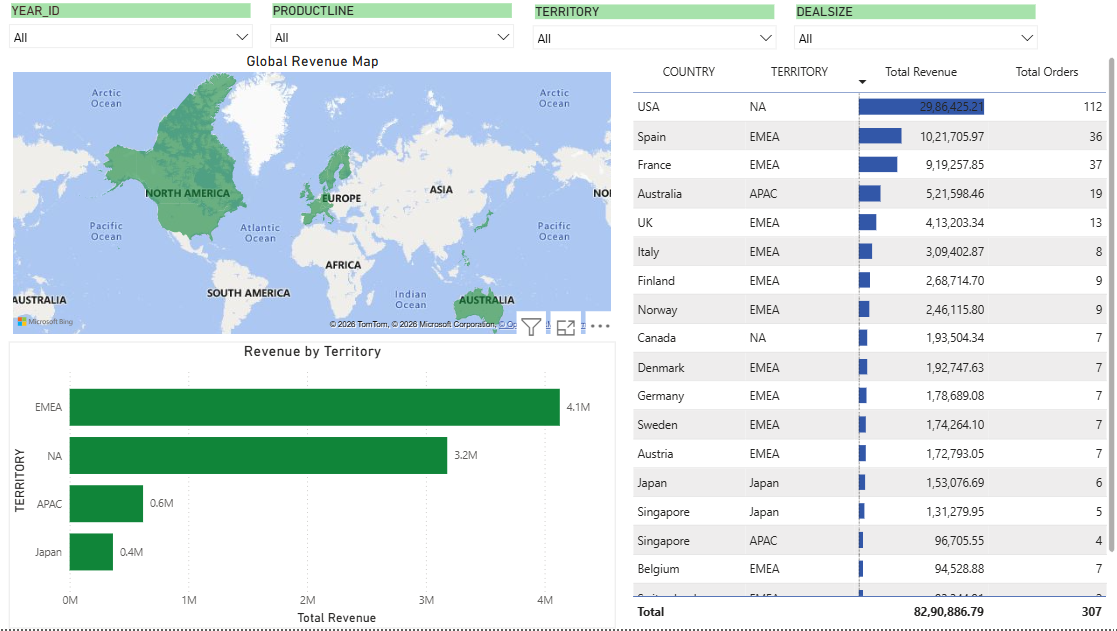

What the dashboard file says about the page in this screenshot:
{"tool":"powerbi","page":{"name":"Geography","canvas":[1280,720],"ordinal":2},"visuals":[{"type":"filledMap","title":"Global Revenue Map","fields":{"Category":["Sales.COUNTRY"]},"box":[10.2,59.6,694.5,328.5],"z":0},{"type":"barChart","title":"Revenue by Territory","fields":{"Category":["Sales.TERRITORY"],"Y":["Sales.Total Revenue"]},"box":[10.2,391.5,694.5,328.5],"z":1000},{"type":"tableEx","fields":{"Values":["Sales.COUNTRY","Sales.TERRITORY","Sales.Total Revenue","_Measures.Total Orders"]},"box":[716.6,61.3,563.4,658.7],"z":2000},{"type":"slicer","fields":{"Values":["Sales.YEAR_ID"]},"box":[0,0,299.1,59],"z":3000},{"type":"slicer","fields":{"Values":["Sales.PRODUCTLINE"]},"box":[299.1,0,299.1,59],"z":4000},{"type":"slicer","fields":{"Values":["Sales.TERRITORY"]},"box":[598.3,1.4,299.1,59],"z":5000},{"type":"slicer","fields":{"Values":["Sales.DEALSIZE"]},"box":[897.4,1.4,299.1,59],"z":6000}]}

Visuals, with their boxes in screenshot pixels (x1, y1, x2, y2), scaled from the page's 1280x720 canvas onto the 1117x631 screenshot:
"Global Revenue Map" filledMap: [9, 52, 615, 340]
"Revenue by Territory" barChart: [9, 343, 615, 630]
tableEx - Sales.COUNTRY x Sales.TERRITORY: [625, 54, 1116, 630]
slicer - Sales.YEAR_ID: [0, 0, 261, 52]
slicer - Sales.PRODUCTLINE: [261, 0, 522, 52]
slicer - Sales.TERRITORY: [522, 1, 783, 53]
slicer - Sales.DEALSIZE: [783, 1, 1044, 53]
